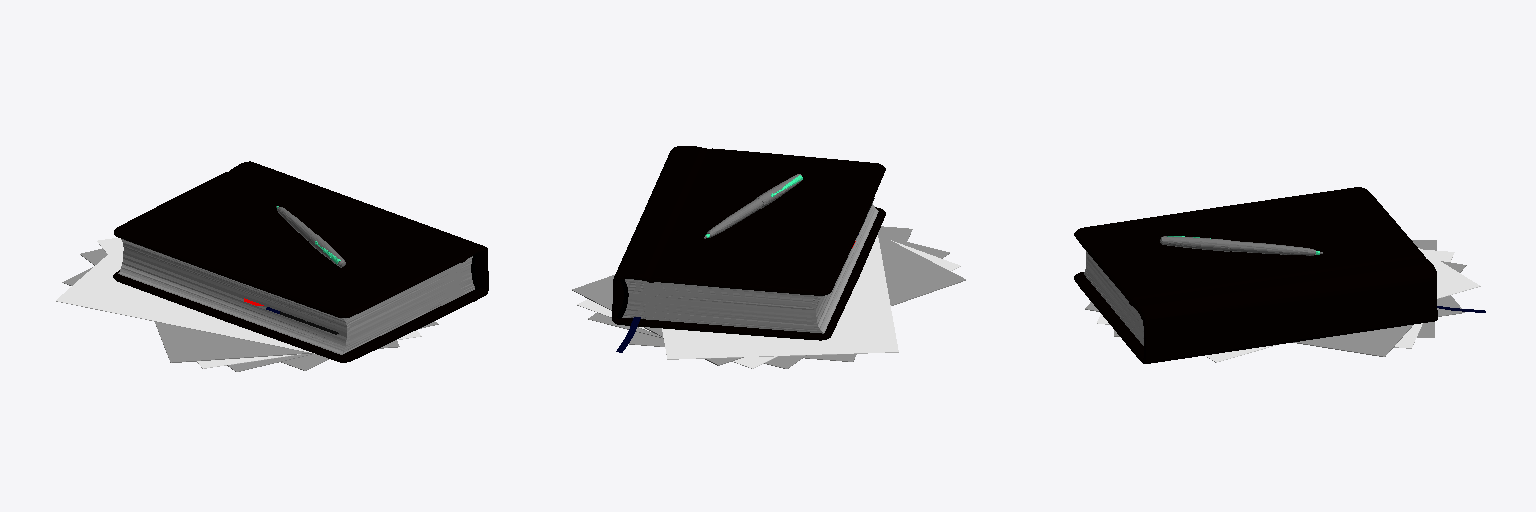
File: notebook.obj
3 renders of one model, left to right at view 1: azimuth 30°, elevation 25°; view 2: azimuth 150°, elevation 25°; view 3: azimuth 270°, elevation 25°, orthographic.
Visible parts, largest first — view 1: arch20_067, arch20_060, arch20_068, arch20_066, arch20_065, arch20_064, arch20_063; view 2: arch20_067, arch20_060, arch20_068, arch20_066, arch20_063, arch20_064, arch20_065, arch20_016; view 3: arch20_067, arch20_066, arch20_060, arch20_068, arch20_016, arch20_017, arch20_065.
Part boxes in pixels (x1,y1,x2,y2): arch20_067: (113, 161, 488, 362); arch20_060: (118, 239, 474, 354); arch20_068: (56, 242, 314, 353); arch20_066: (155, 322, 399, 362); arch20_065: (97, 238, 421, 368); arch20_064: (80, 248, 438, 371); arch20_063: (62, 267, 328, 370); arch20_067: (612, 146, 885, 340); arch20_060: (622, 203, 878, 333); arch20_068: (662, 235, 898, 359); arch20_066: (572, 234, 965, 365); arch20_063: (629, 226, 912, 361); arch20_064: (588, 235, 949, 368); arch20_065: (577, 240, 960, 368); arch20_016: (707, 174, 801, 237); arch20_067: (1074, 187, 1437, 363); arch20_066: (1085, 261, 1466, 356); arch20_060: (1084, 251, 1143, 345); arch20_068: (1205, 248, 1480, 362); arch20_016: (1160, 237, 1315, 255); arch20_017: (1163, 236, 1322, 253); arch20_065: (1097, 249, 1454, 348).
Size of the model in its own units: 0.1476 by 0.0277 by 0.1589.